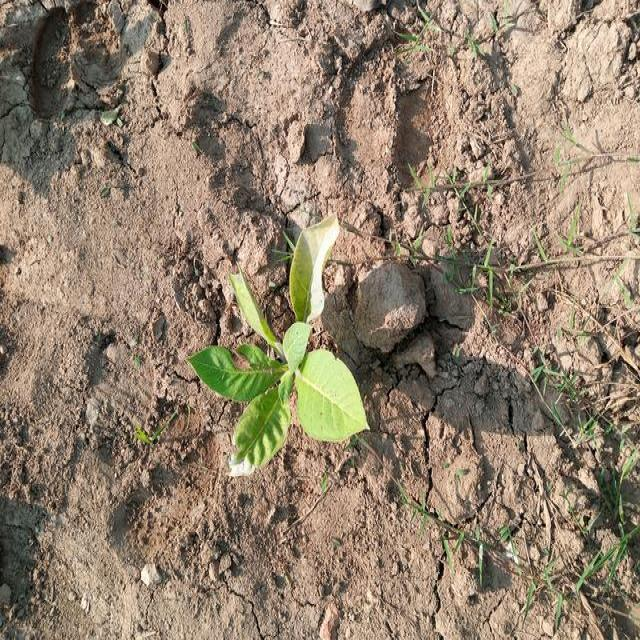crop: (195, 221, 365, 465)
